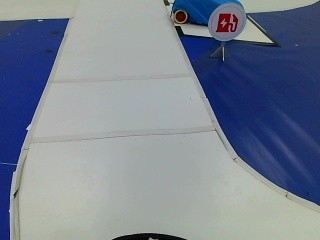battery: (208, 7, 244, 40)
car: (166, 0, 244, 28)
